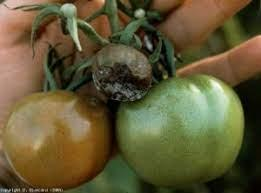tomato late blight: (91, 45, 155, 105)
